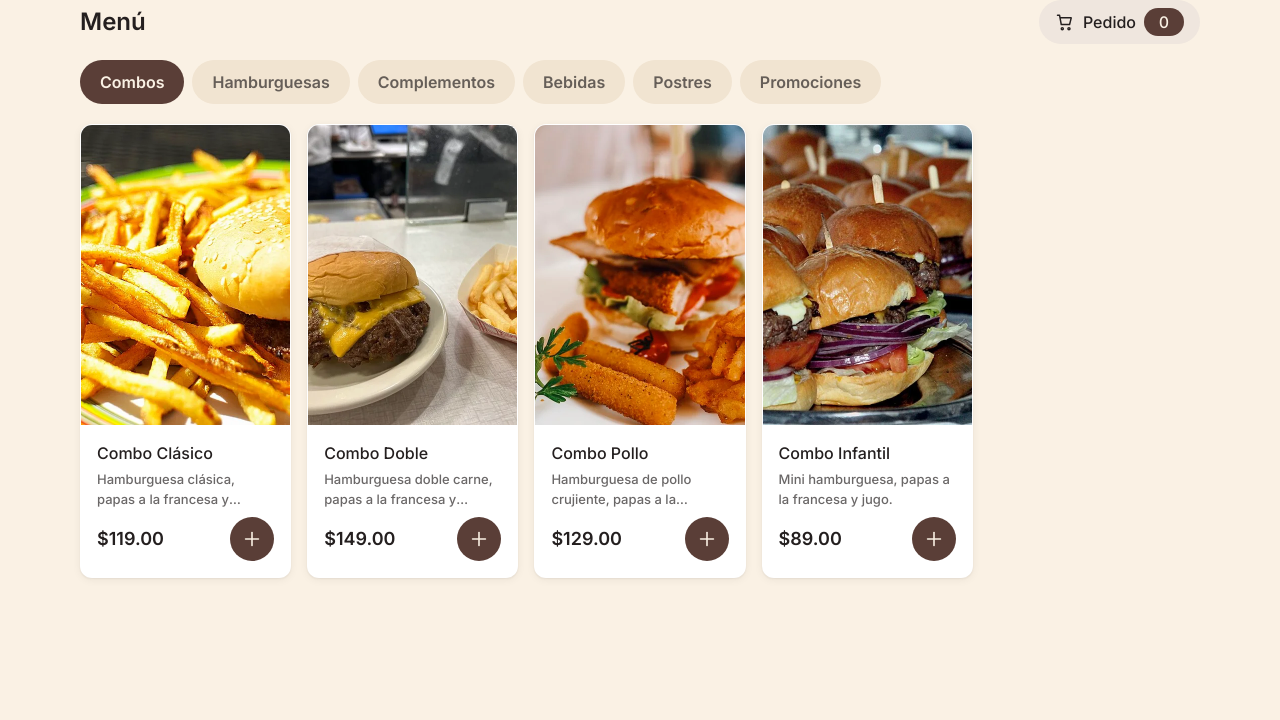
Test: CatalogPageComponent › should show the empty message when the selected category has no products (CA3)
The image size is (1280, 720).
Click the button "Promociones" at (811, 82), box [740,60,881,104]
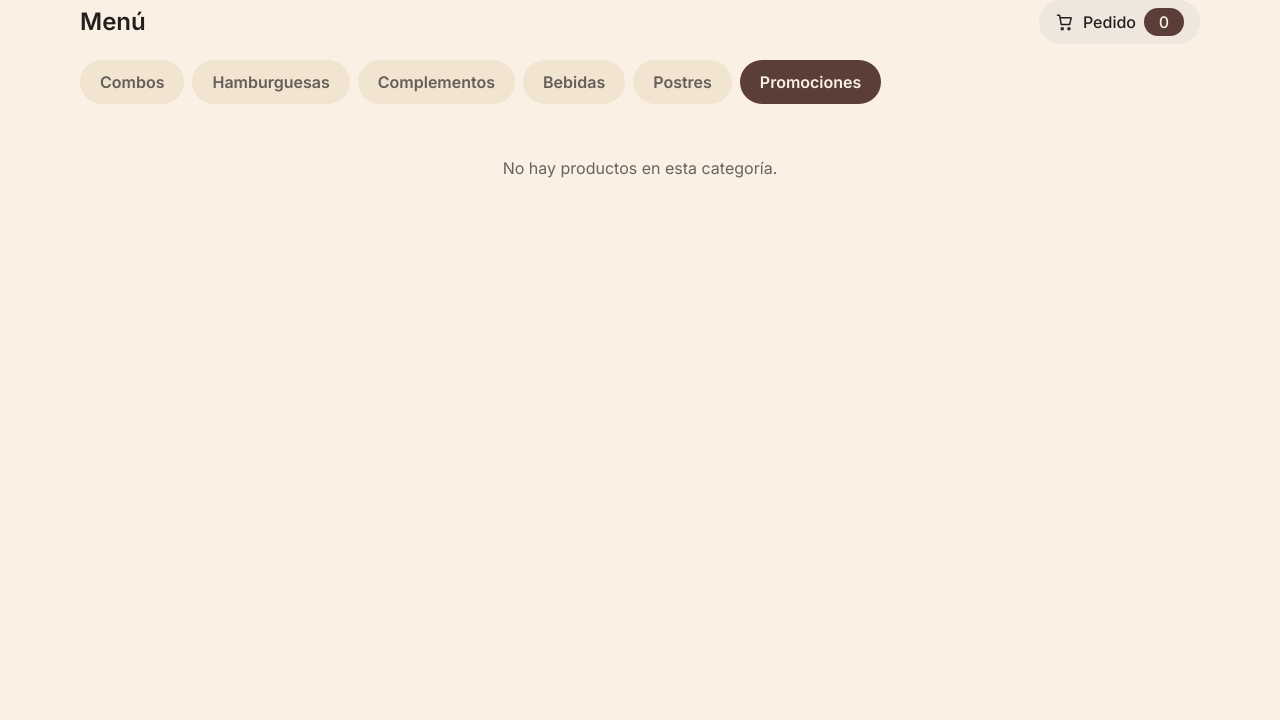
Now the text "No hay productos en esta categoría." is shown, box [503,158,777,178]
